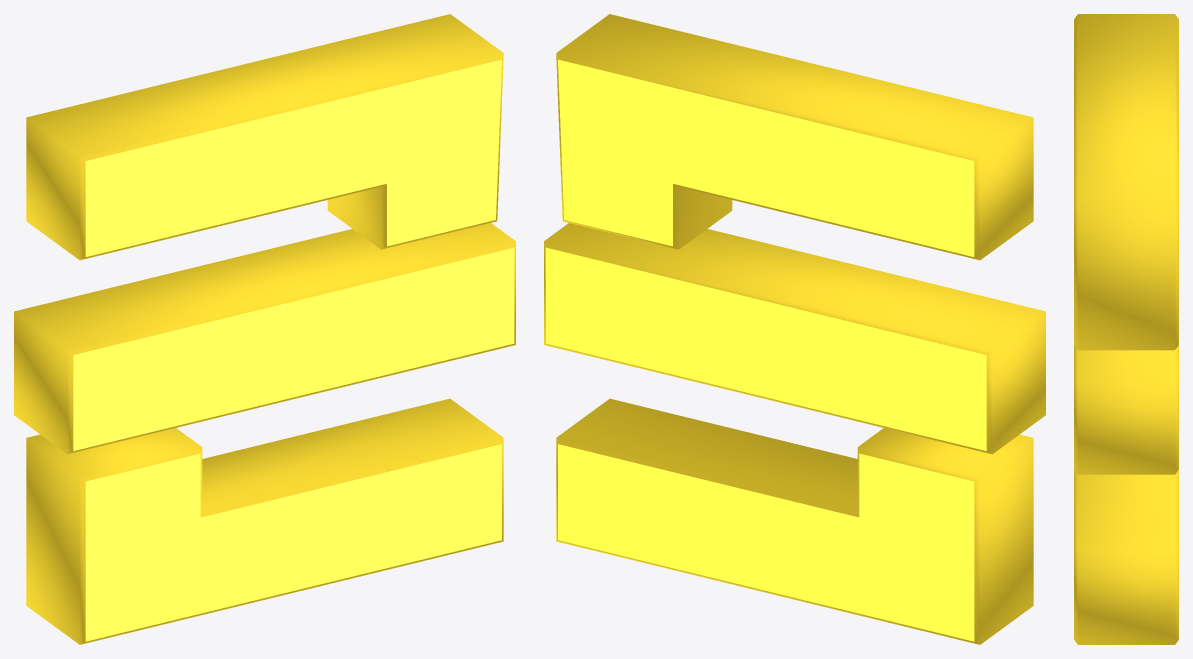
File: u_adfc_y.glb
The picture shows the model from 3 angles, left to right: view 1: azimuth 30°, elevation 25°; view 2: azimuth 150°, elevation 25°; view 3: azimuth 270°, elevation 25°; orthographic projection. The views are drawn at different scales.
Parts seen in each view (by area): view 1: glyph; view 2: glyph; view 3: glyph.
Part boxes in pixels (x1,y1,x2,y2): glyph: [14, 14, 515, 644]; glyph: [544, 14, 1045, 644]; glyph: [1074, 14, 1178, 644].
Size of the model in its own units: 0.0726 by 0.0756 by 0.0162.
